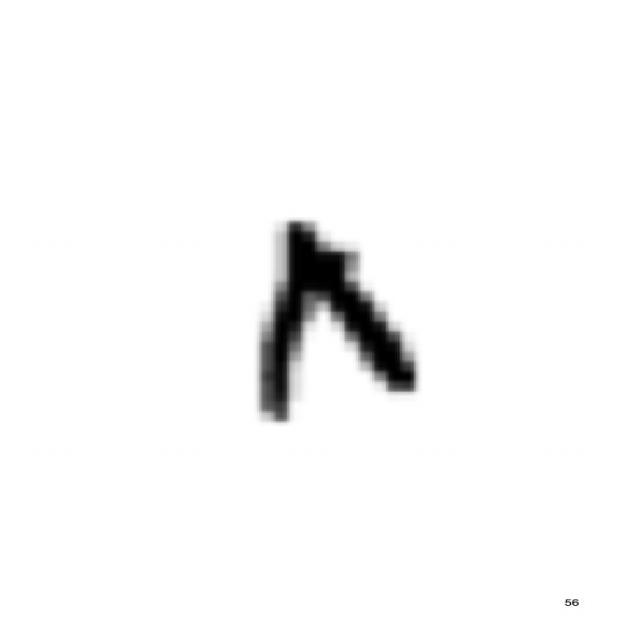8 -eight-: (234, 202, 434, 436)
